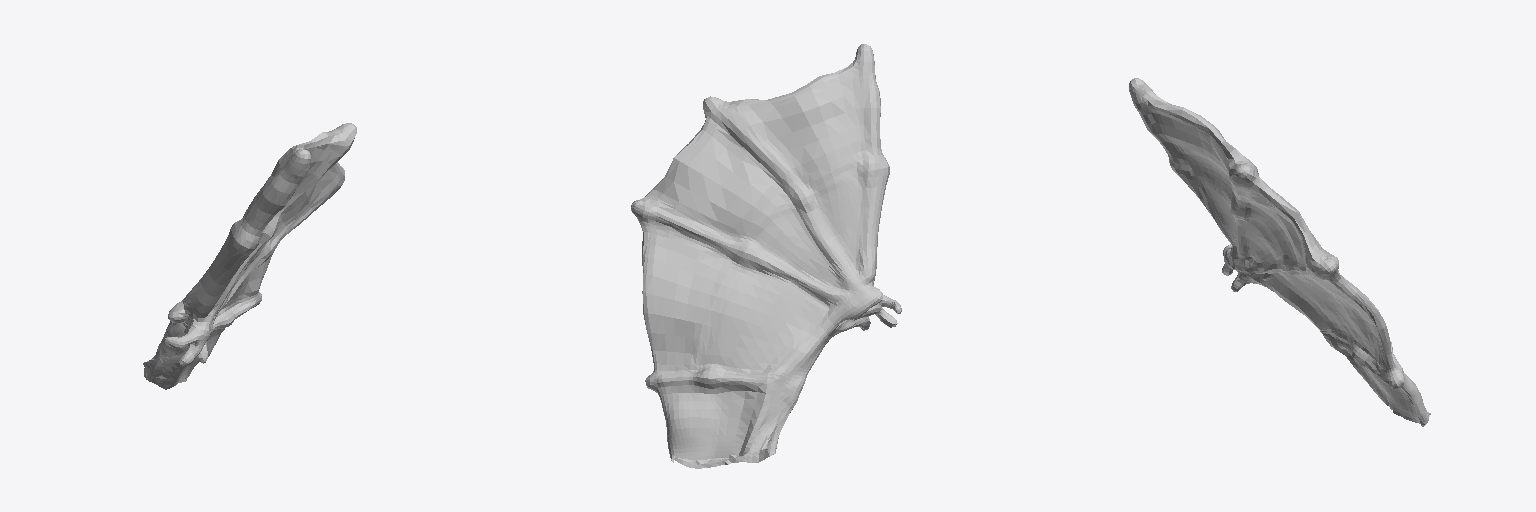
File: WING_R.obj
3 renders of one model, left to right at view 1: azimuth 30°, elevation 25°; view 2: azimuth 150°, elevation 25°; view 3: azimuth 270°, elevation 25°, orthographic.
Parts seen in each view (by area): view 1: ALA_DERECHA; view 2: ALA_DERECHA; view 3: ALA_DERECHA.
Boxes of the visible parts, x1=… form: ALA_DERECHA: x1=143, y1=123, x2=356, y2=389; ALA_DERECHA: x1=631, y1=44, x2=901, y2=468; ALA_DERECHA: x1=1129, y1=78, x2=1430, y2=426.
Bounding box in the file's own units: 6.31 × 8.88 × 7.39.